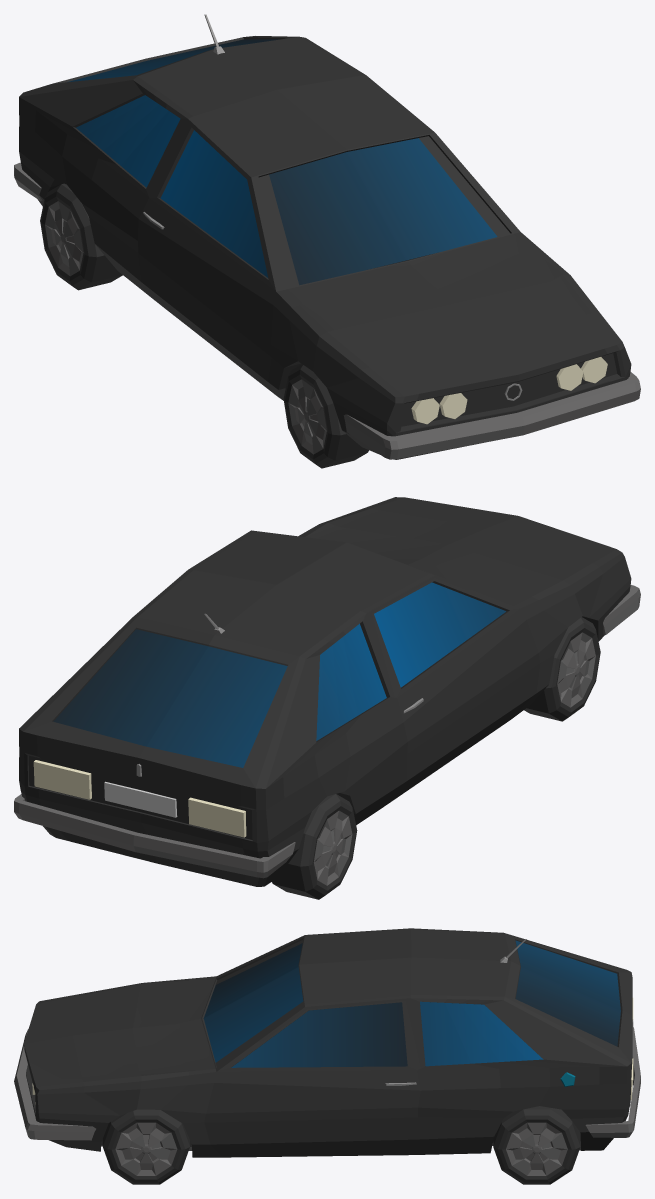
Rendered from B02_car_4.fbx.
The picture shows the model from 3 angles, top to bottom: view 1: azimuth 30°, elevation 25°; view 2: azimuth 150°, elevation 25°; view 3: azimuth 270°, elevation 25°; orthographic projection. The views are drawn at different scales.
Parts seen in each view (by area): view 1: B02_car_4; view 2: B02_car_4; view 3: B02_car_4.
Part boxes in pixels (x1,y1,x2,y2): B02_car_4: (14, 14, 640, 468); B02_car_4: (14, 497, 640, 899); B02_car_4: (14, 928, 640, 1184).
Bounding box in the file's own units: 281 × 240 × 699.
